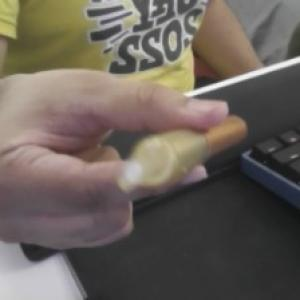Golden-E-Ciggirate: (118, 110, 250, 197)
